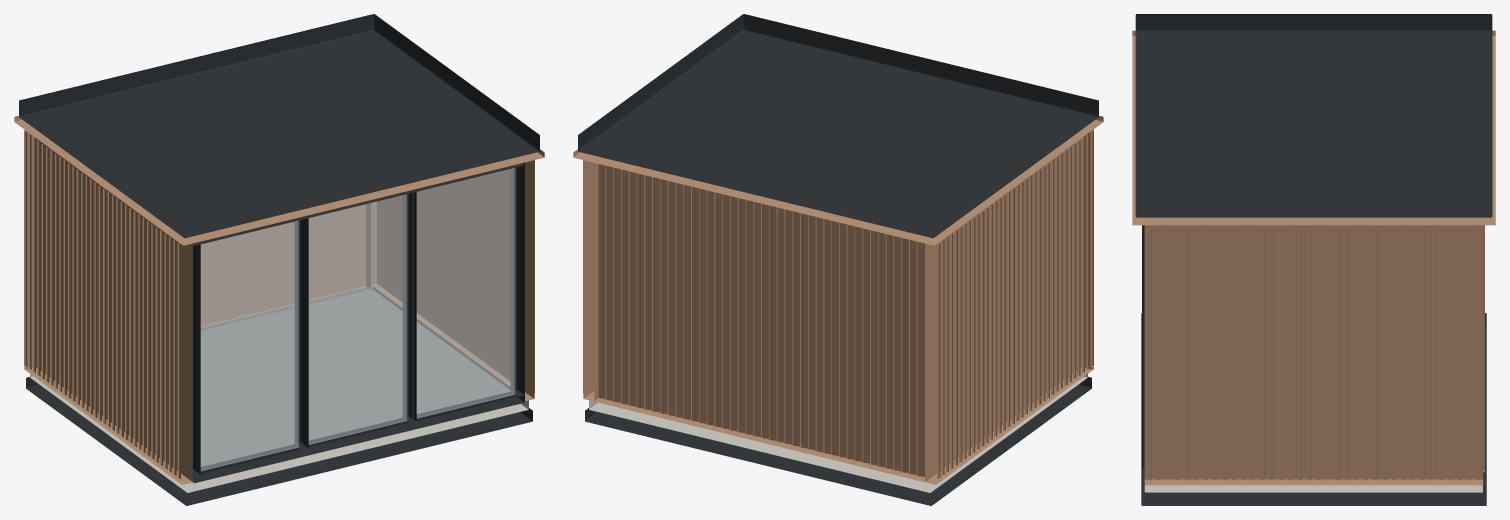
File: mobup-studio-p3-m8.glb
The picture shows the model from 3 angles, left to right: view 1: azimuth 30°, elevation 25°; view 2: azimuth 150°, elevation 25°; view 3: azimuth 270°, elevation 25°; orthographic projection. The views are drawn at different scales.
Parts seen in each view (by area): view 1: Mobup_graphite, Mobup_cedar, Mobup_glass, Mobup_floor, Mobup_mineral; view 2: Mobup_cedar, Mobup_graphite, Mobup_mineral; view 3: Mobup_cedar, Mobup_graphite, Mobup_mineral.
Boxes of the visible parts, x1,y1,x2,y2 form: Mobup_graphite: [19, 14, 539, 505]; Mobup_cedar: [14, 116, 544, 484]; Mobup_glass: [200, 168, 515, 471]; Mobup_floor: [200, 286, 510, 466]; Mobup_mineral: [30, 374, 528, 492]; Mobup_cedar: [573, 116, 1103, 484]; Mobup_graphite: [578, 14, 1098, 505]; Mobup_mineral: [589, 374, 1087, 492]; Mobup_cedar: [1132, 30, 1495, 485]; Mobup_graphite: [1135, 14, 1492, 505]; Mobup_mineral: [1144, 485, 1483, 492].
Bounding box in the file's own units: 3.97 × 3.02 × 3.22.
